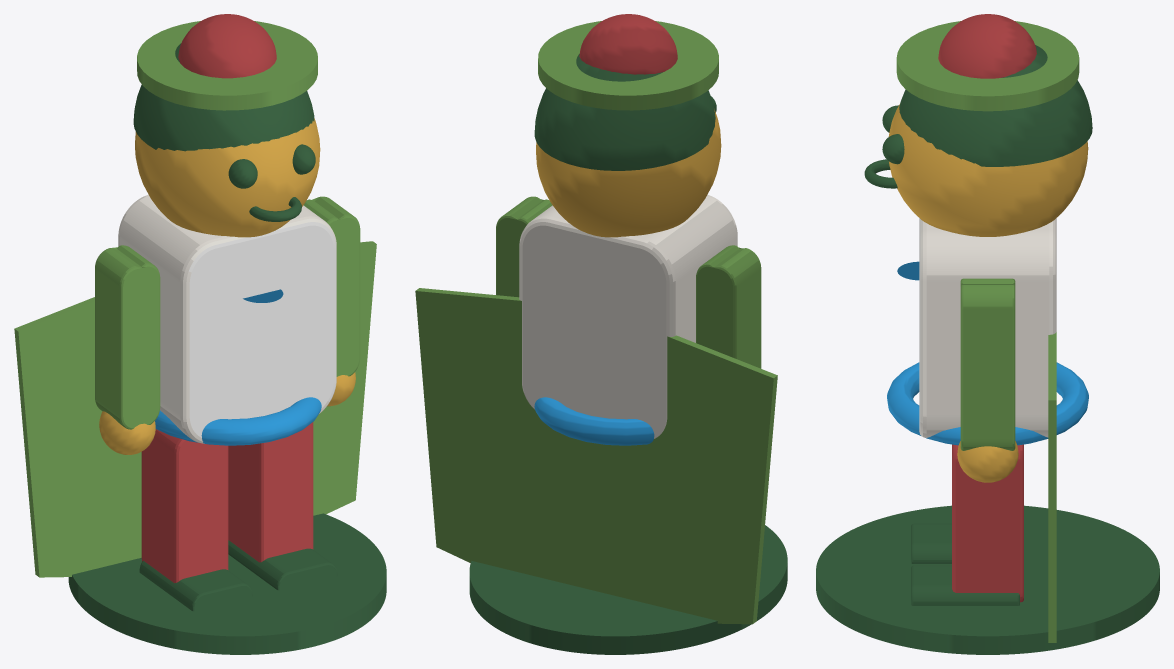
Rendered from 1124_左传_王孙满.glb.
3 views of the same model, side by side, from view 1: azimuth 30°, elevation 25°; view 2: azimuth 150°, elevation 25°; view 3: azimuth 270°, elevation 25° (orthographic).
Parts seen in each view (by area): view 1: card_1124; view 2: card_1124; view 3: card_1124.
Boxes of the visible parts, x1,y1,x2,y2 form: card_1124: [14, 14, 386, 654]; card_1124: [415, 14, 787, 654]; card_1124: [816, 14, 1159, 654].
Size of the model in its own units: 0.6493 by 1 by 0.5352.
